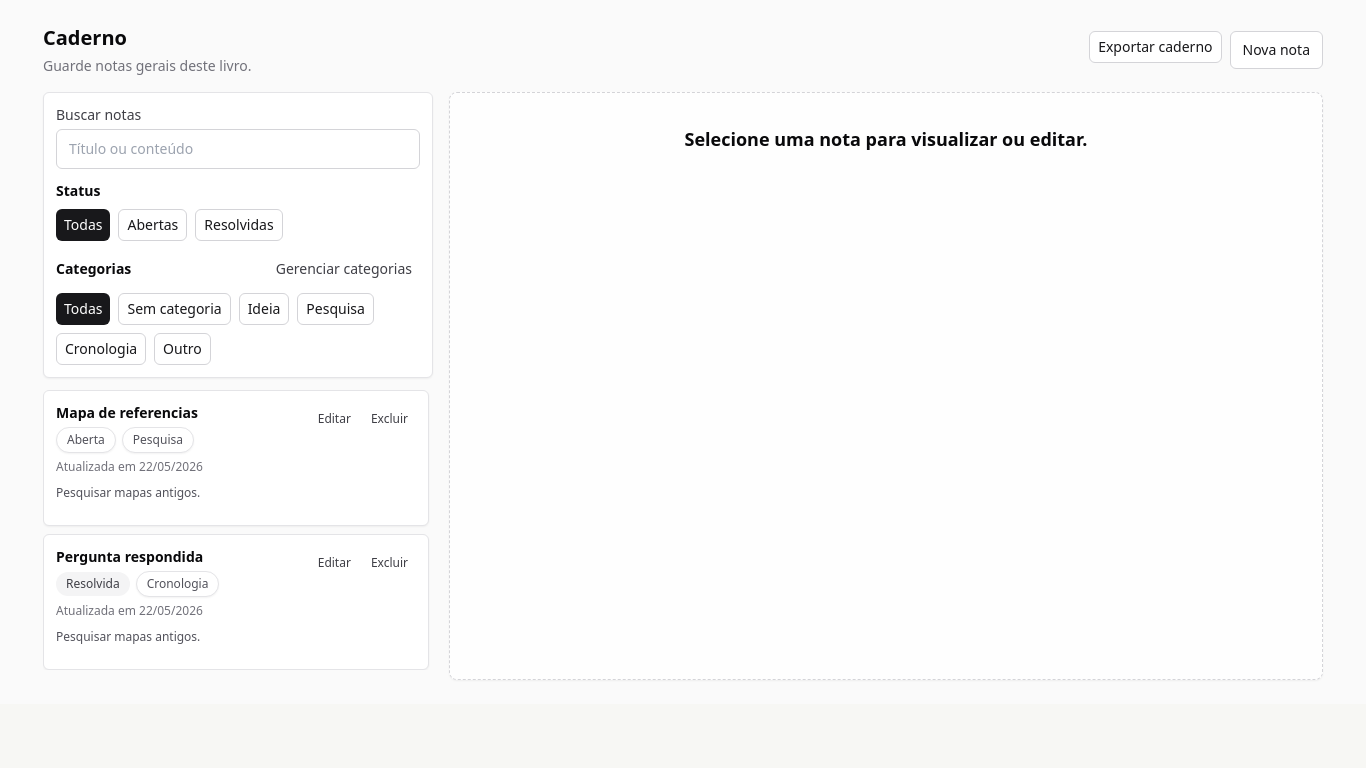
Test: NotebookPanel writing layout and status › renomear categoria atualiza categorias e notas
The image size is (1366, 768).
Expected: the element named "Notas do caderno" is shown, [43, 390, 433, 670]
Click the button "Gerenciar categorias" at (344, 269), box [268, 253, 420, 285]
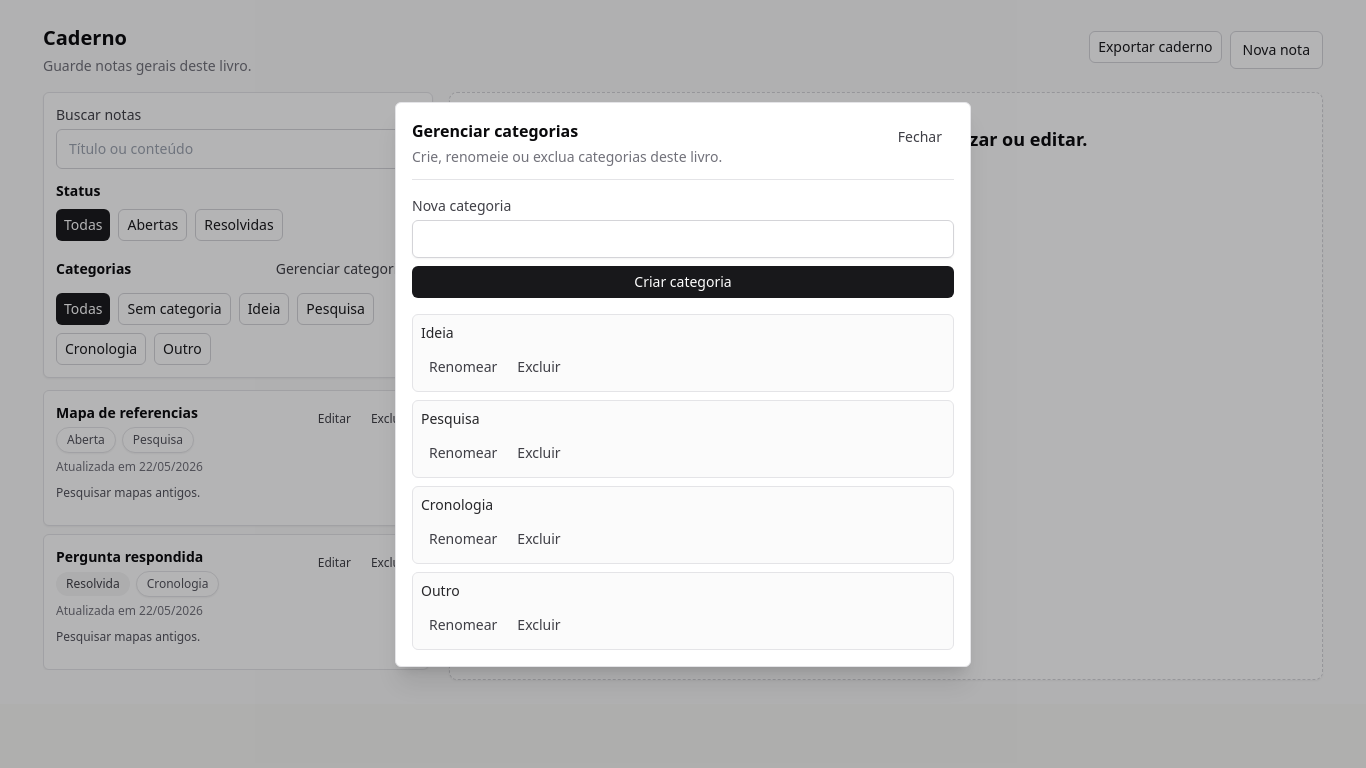
Click the 3rd button "Renomear" at (463, 538), box [421, 522, 505, 554]
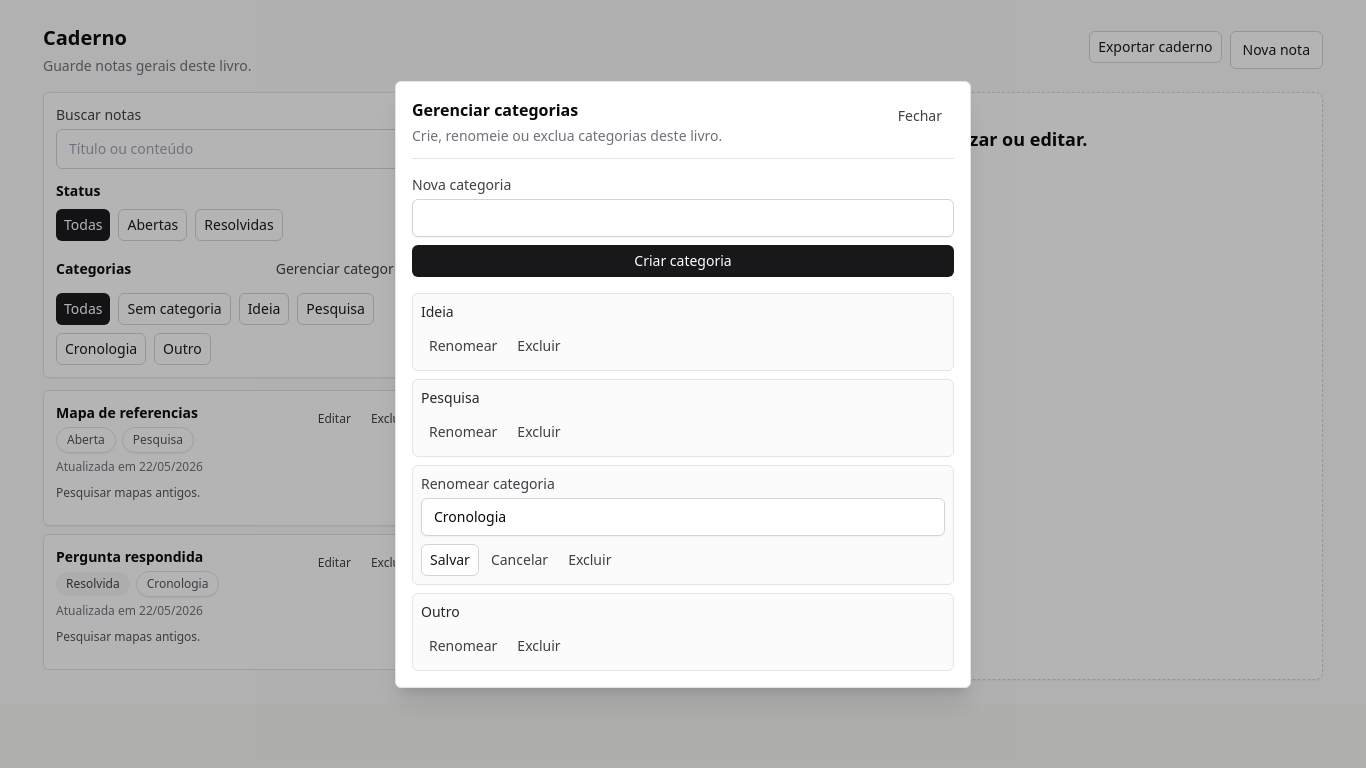
Replace the text in the field labelled "Renomear categoria" with "Cronologia revisada" at (683, 516), box [421, 498, 945, 536]
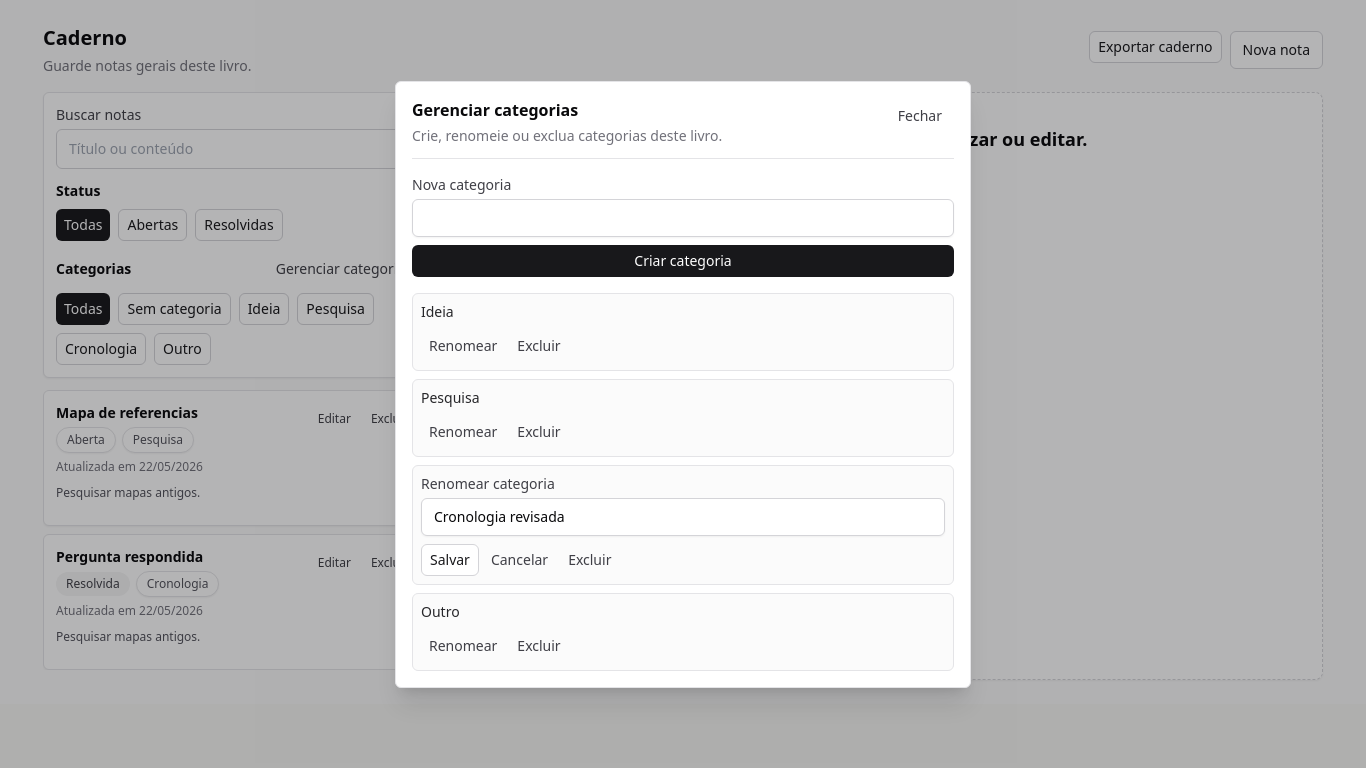
Click the button "Salvar" at (450, 560), box [421, 544, 479, 576]
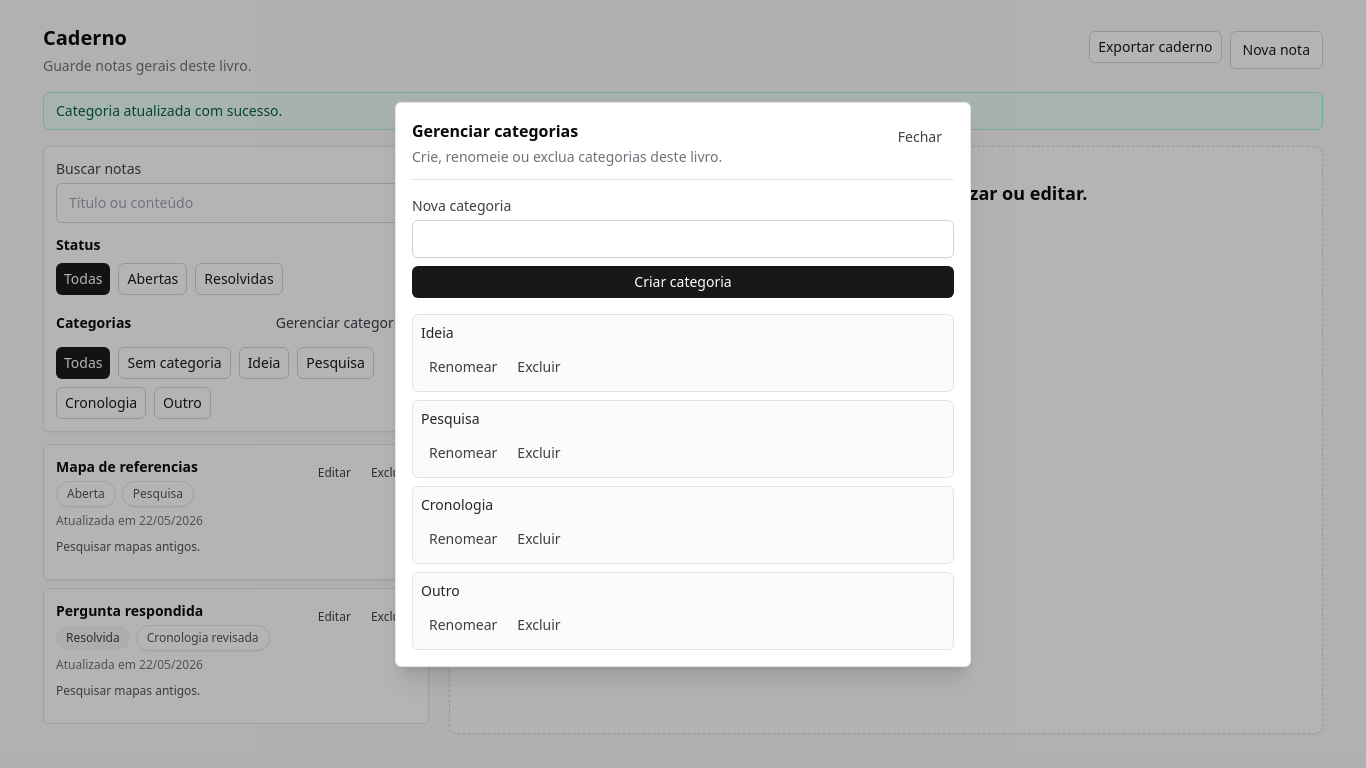
Expected: the text "Cronologia revisada" is shown, [136, 625, 270, 651]
